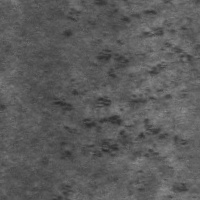rolled-in_scale: (58, 56, 196, 184), (81, 0, 186, 84)
